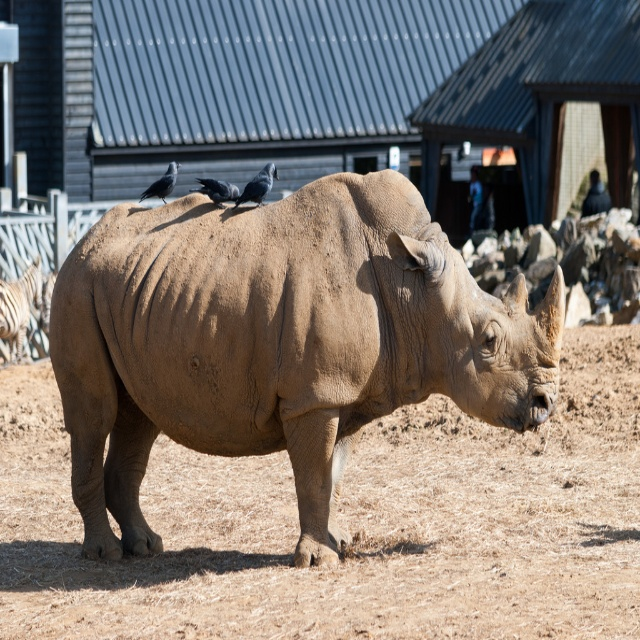Rhinoceros: (46, 164, 565, 569)
